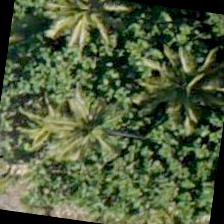Kelapa_Sawit: (41, 77, 144, 178), (132, 45, 223, 148), (38, 0, 136, 60)
